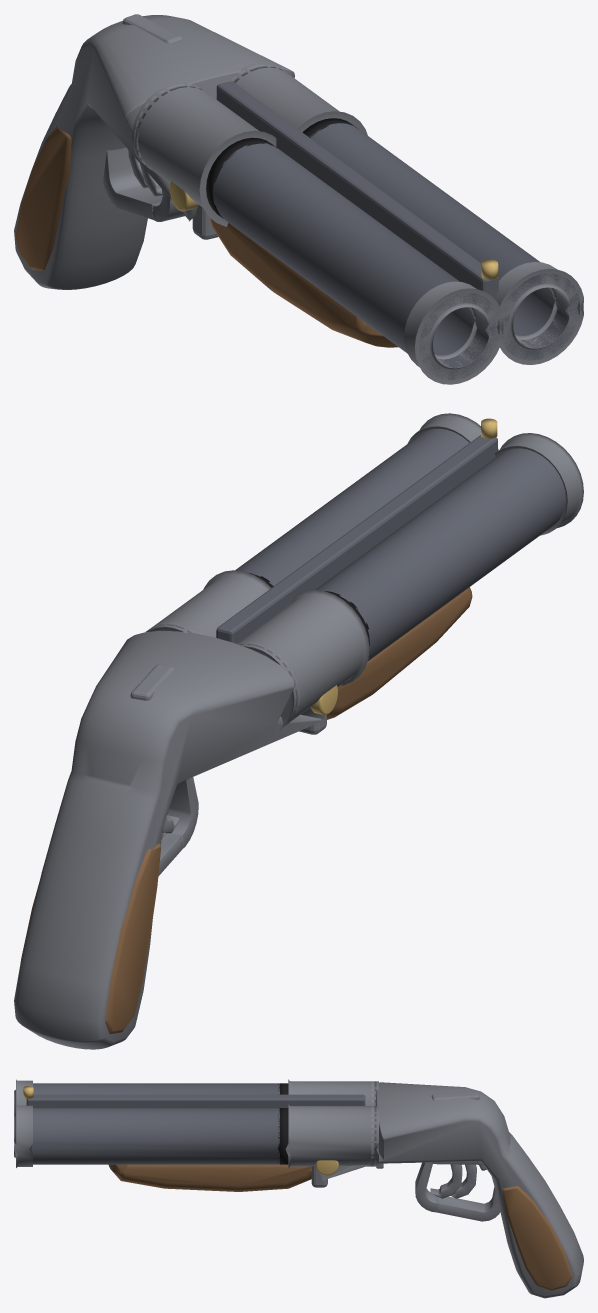
The model's file is shorty-double.glb.
3 renders of one model, top to bottom at view 1: azimuth 30°, elevation 25°; view 2: azimuth 150°, elevation 25°; view 3: azimuth 270°, elevation 25°, orthographic. The views are drawn at different scales.
Visible parts, largest first — view 1: barrel0, body, barrel1, rib_top, chamber0, crown0, crown1, foreend, grip_panel-1, chamber1, guard, cone0 (+3 smaller); view 2: body, barrel0, chamber0, rib_top, barrel1, grip_panel-1, foreend, chamber1, crown0, guard, crown1; view 3: body, barrel1, chamber1, foreend, rib_top, grip_panel1, barrel0, guard, chamber0, crown1, cone1, trig0 (+4 smaller).
Boxes of the visible parts, x1,y1,x2,y2 form: barrel0: [213, 143, 499, 380]; body: [14, 15, 294, 289]; barrel1: [310, 123, 579, 360]; rib_top: [216, 81, 498, 298]; chamber0: [132, 82, 276, 226]; crown0: [404, 281, 503, 384]; crown1: [494, 262, 583, 364]; foreend: [210, 218, 398, 347]; grip_panel-1: [15, 125, 71, 270]; chamber1: [230, 63, 367, 135]; guard: [103, 147, 184, 221]; cone0: [206, 137, 277, 218]; body: [14, 631, 325, 1049]; barrel0: [315, 448, 565, 661]; chamber0: [236, 589, 369, 729]; rib_top: [216, 435, 497, 643]; barrel1: [235, 428, 469, 586]; grip_panel-1: [105, 843, 160, 1033]; foreend: [327, 587, 472, 719]; chamber1: [146, 570, 271, 637]; crown0: [494, 433, 583, 535]; guard: [158, 777, 198, 876]; crown1: [407, 413, 498, 450]; body: [321, 1082, 583, 1298]; barrel1: [14, 1108, 279, 1164]; chamber1: [285, 1104, 378, 1168]; foreend: [108, 1164, 311, 1191]; rib_top: [26, 1094, 365, 1107]; grip_panel1: [502, 1186, 572, 1290]; barrel0: [33, 1083, 279, 1094]; guard: [415, 1161, 500, 1221]; chamber0: [288, 1079, 378, 1105]; crown1: [14, 1104, 32, 1167]; cone1: [278, 1108, 288, 1164]; trig0: [430, 1164, 462, 1198].
Bounding box in the file's own units: 0.0994 × 0.1784 × 0.4541.
